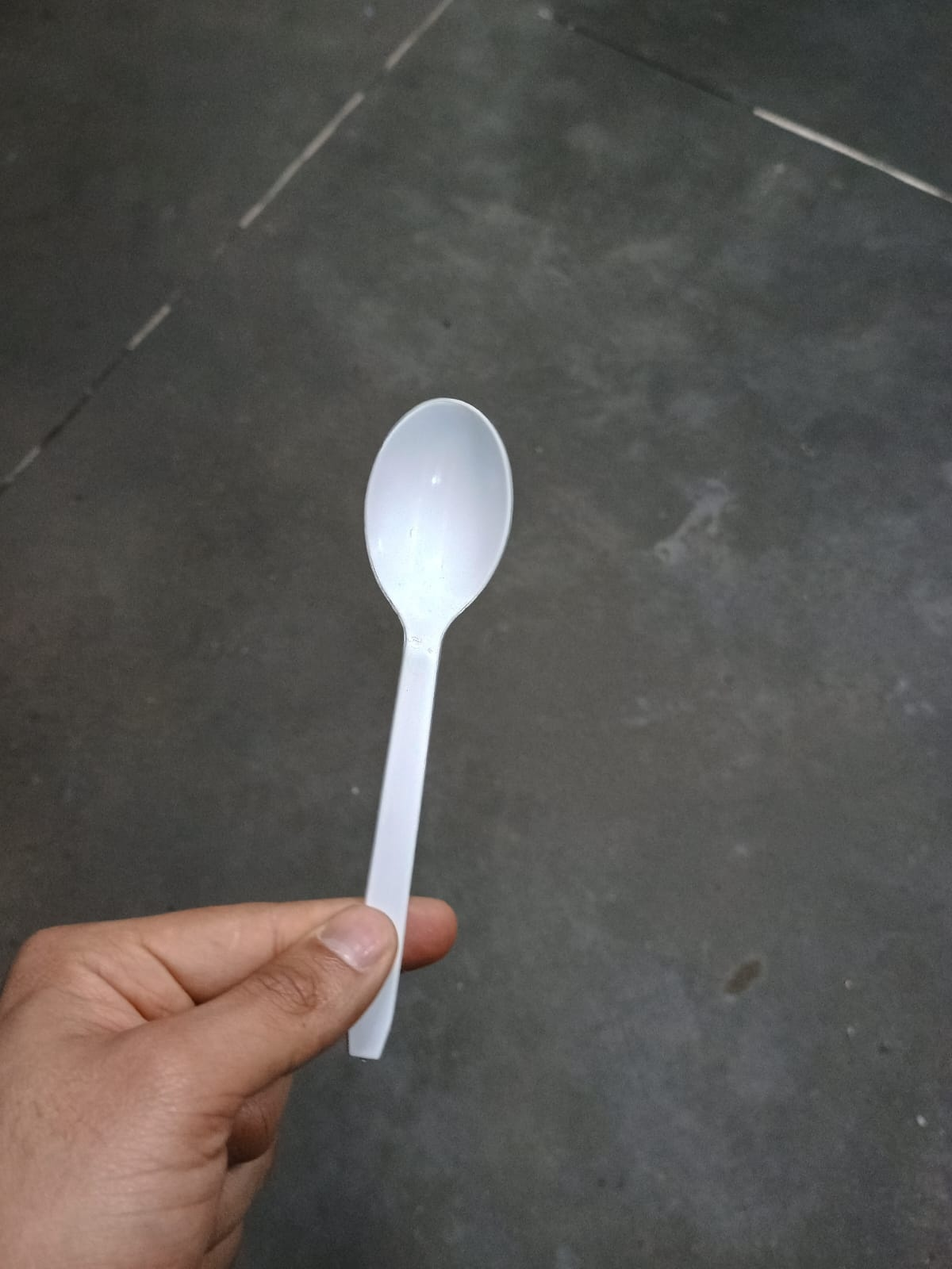Ordinario: (358, 396, 517, 1067)
